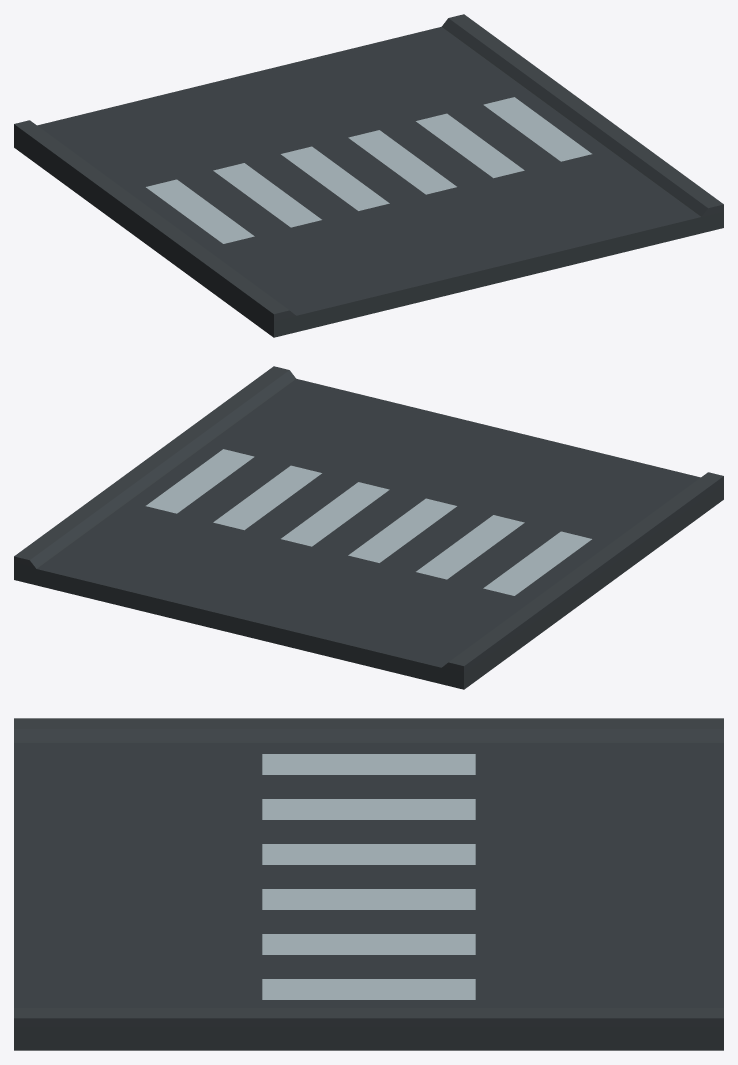
The model's file is road_crosswalk.obj.
The picture shows the model from 3 angles, top to bottom: view 1: azimuth 30°, elevation 25°; view 2: azimuth 150°, elevation 25°; view 3: azimuth 270°, elevation 25°; orthographic projection. The views are drawn at different scales.
Visible parts, largest first — view 1: road_straight_crossing_Cube.951; view 2: road_straight_crossing_Cube.951; view 3: road_straight_crossing_Cube.951.
Boxes of the visible parts, left/top/right/bottom form: road_straight_crossing_Cube.951: left=14, top=14, right=723, bottom=337; road_straight_crossing_Cube.951: left=14, top=366, right=723, bottom=689; road_straight_crossing_Cube.951: left=14, top=718, right=723, bottom=1050.
Bounding box in the file's own units: 2 × 0.1 × 2.
